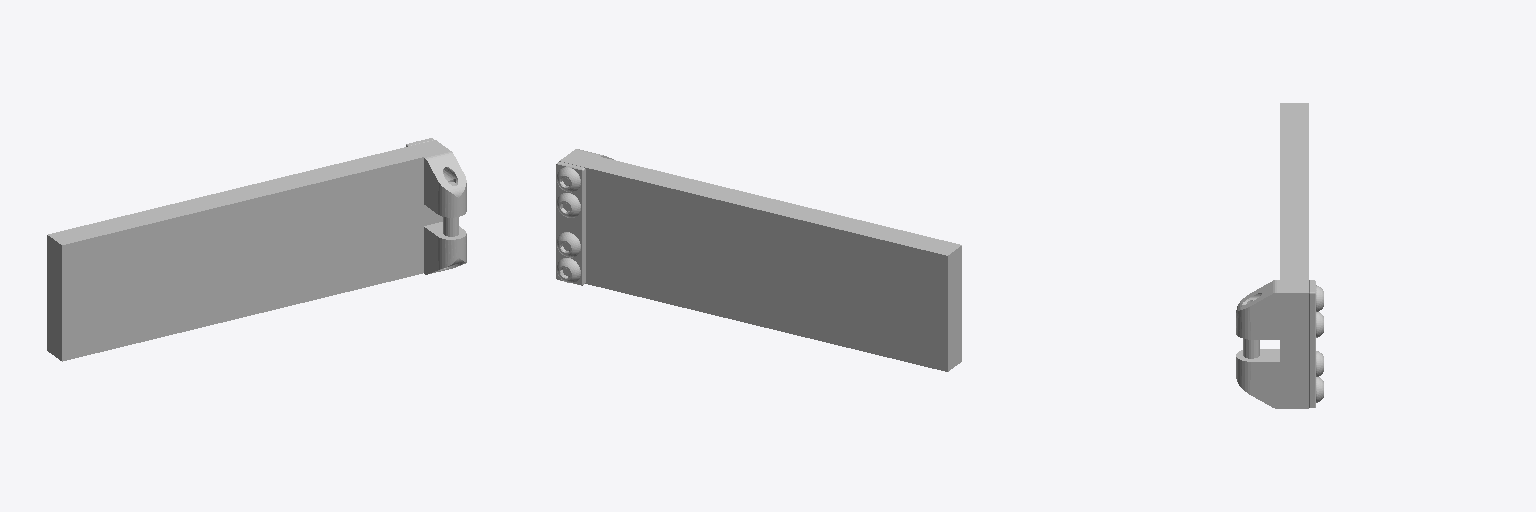
The model's file is heel-spring-mirror.obj.
The picture shows the model from 3 angles: view 1: azimuth 30°, elevation 25°; view 2: azimuth 150°, elevation 25°; view 3: azimuth 270°, elevation 25°; orthographic projection.
Parts seen in each view (by area): view 1: heel-spring; view 2: heel-spring; view 3: heel-spring.
Boxes of the visible parts, box(x1,y1,x2,y2) form: heel-spring: box(47, 138, 466, 361); heel-spring: box(556, 149, 961, 371); heel-spring: box(1236, 103, 1323, 408).
Size of the model in its own units: 0.1748 by 0.05 by 0.0343.